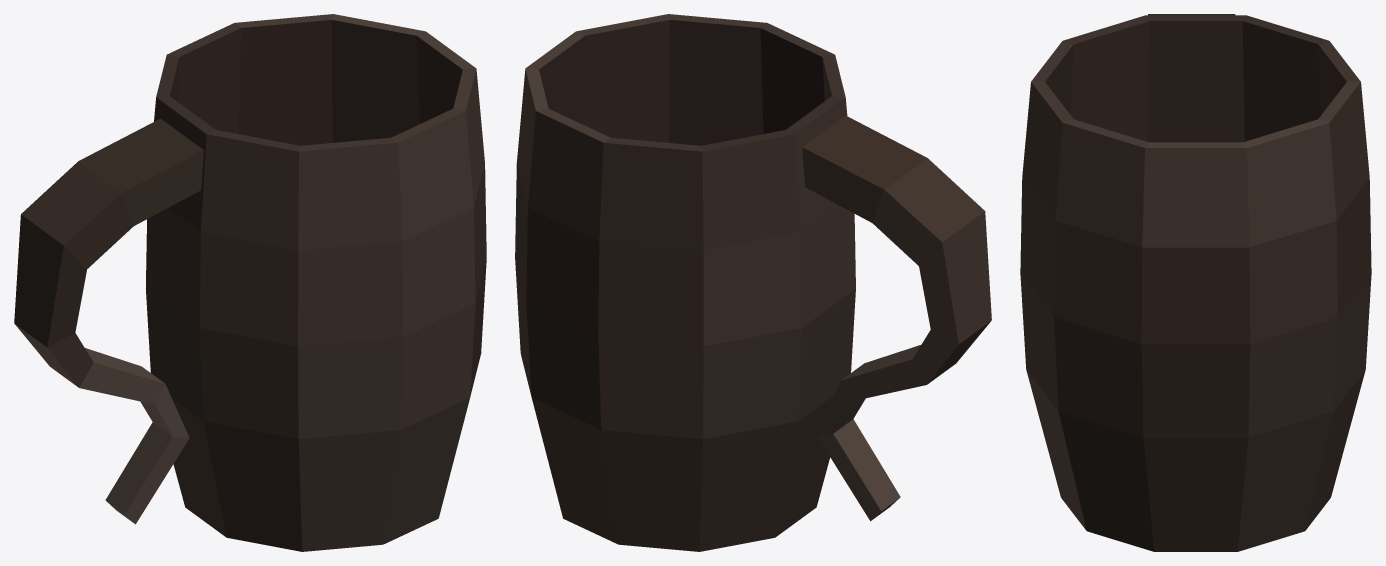
The model's file is Prop_CupD.fbx.
3 views of the same model, side by side, from view 1: azimuth 30°, elevation 25°; view 2: azimuth 150°, elevation 25°; view 3: azimuth 270°, elevation 25° (orthographic).
Visible parts, largest first — view 1: Prop_CupD; view 2: Prop_CupD; view 3: Prop_CupD.
Part boxes in pixels (bbox=[...]): Prop_CupD: bbox=[14, 14, 486, 551]; Prop_CupD: bbox=[515, 14, 991, 551]; Prop_CupD: bbox=[1020, 14, 1371, 551].
Bounding box in the file's own units: 16.97 × 15.53 × 11.88.
